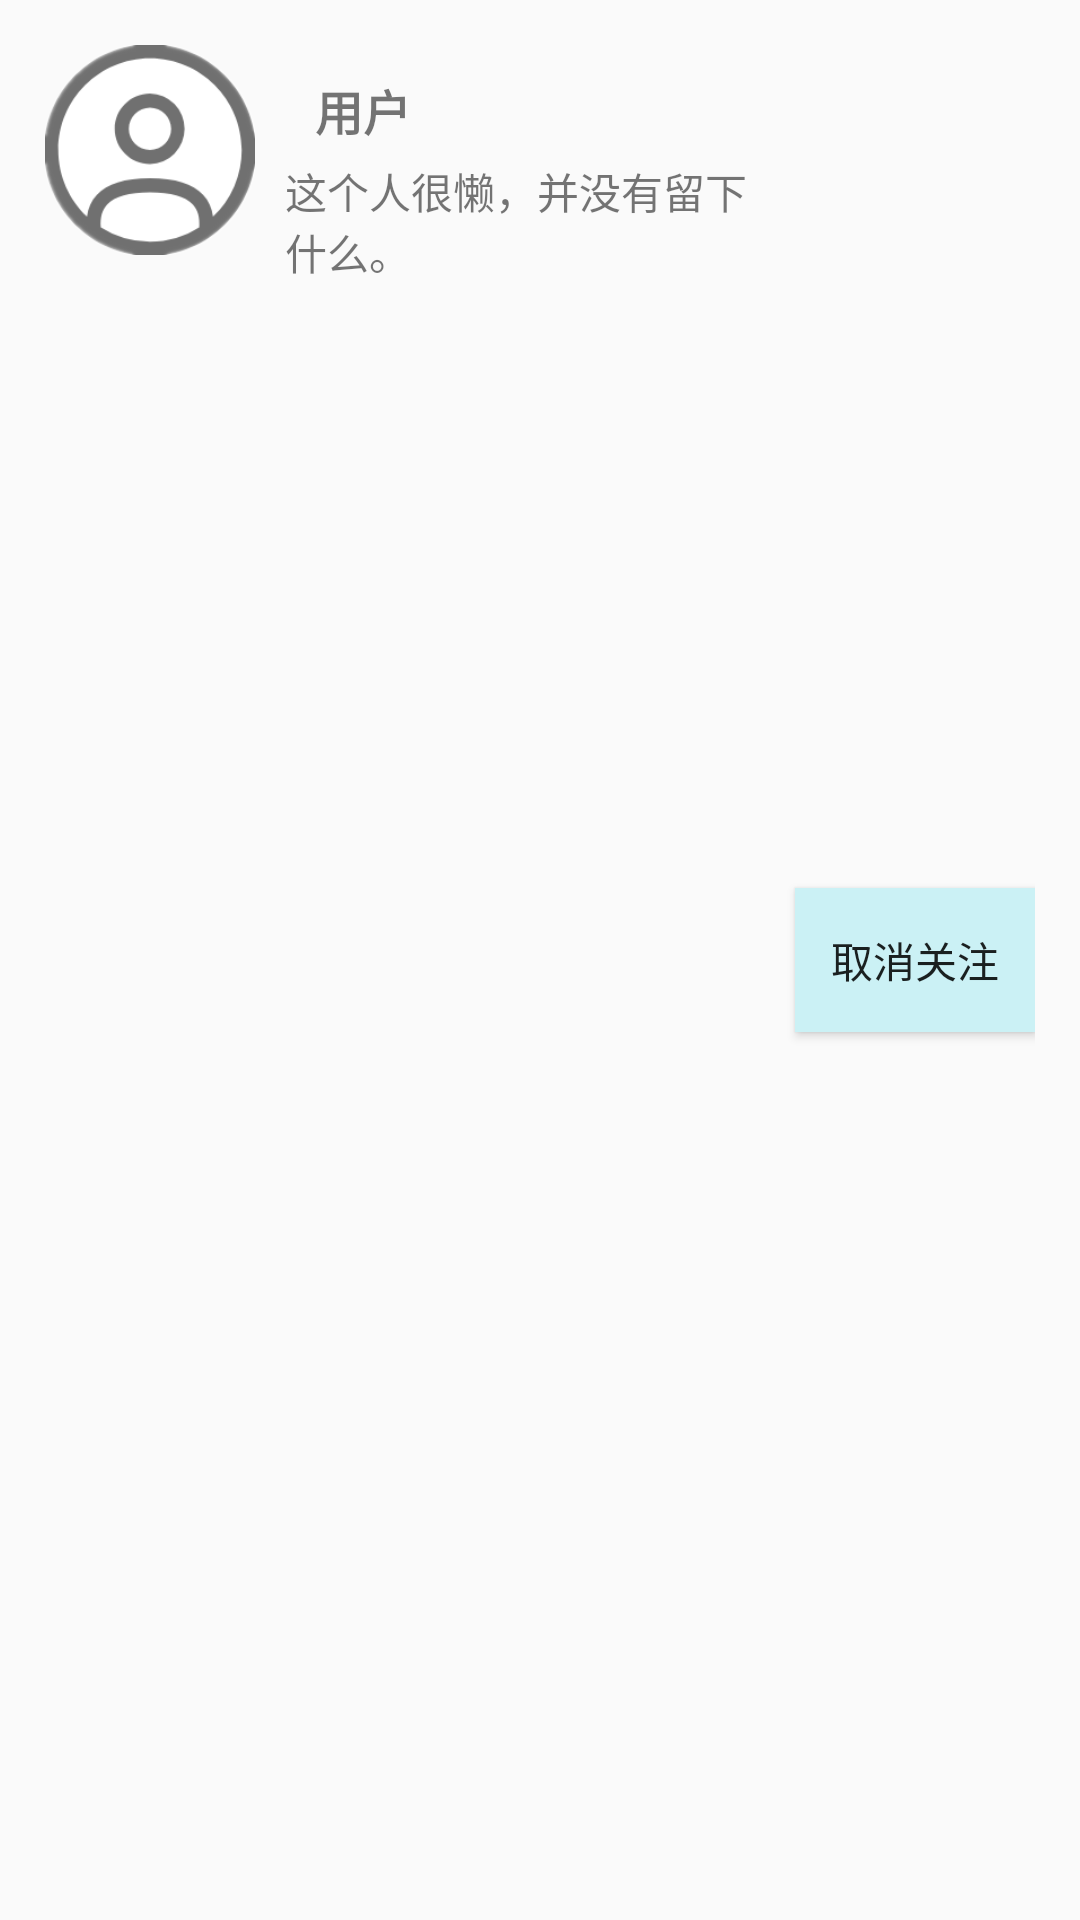

Icon click points for this 1080w x 1920h phone screenshot, format (x=x, y=y):
appbar user: (x=150, y=150)
